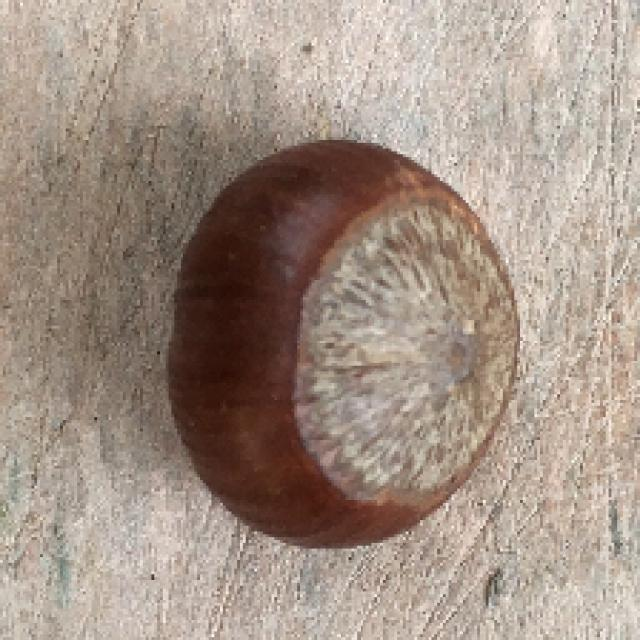qualityHazelnut: (165, 132, 528, 552)
